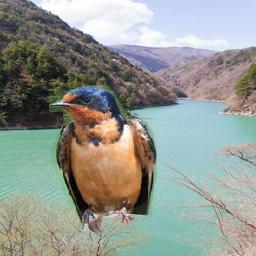Swallow: (49, 85, 157, 233)
